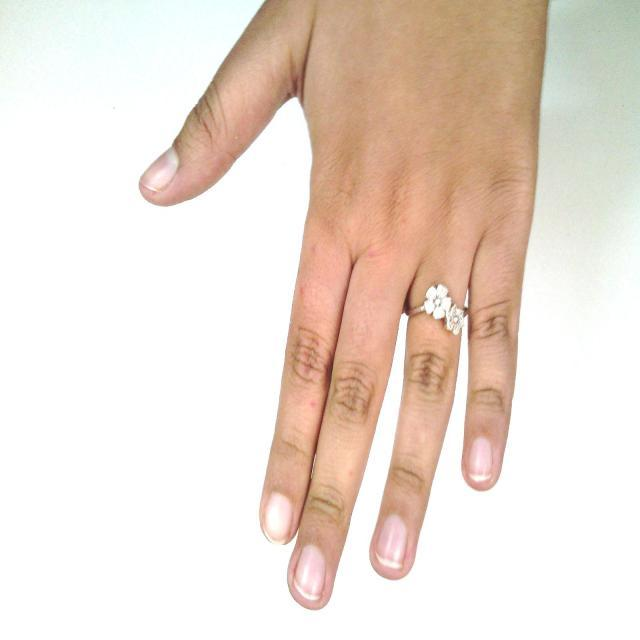Fingernail: (294, 546, 326, 600), (141, 149, 179, 191), (376, 515, 407, 566), (265, 494, 293, 541), (467, 437, 492, 480)
